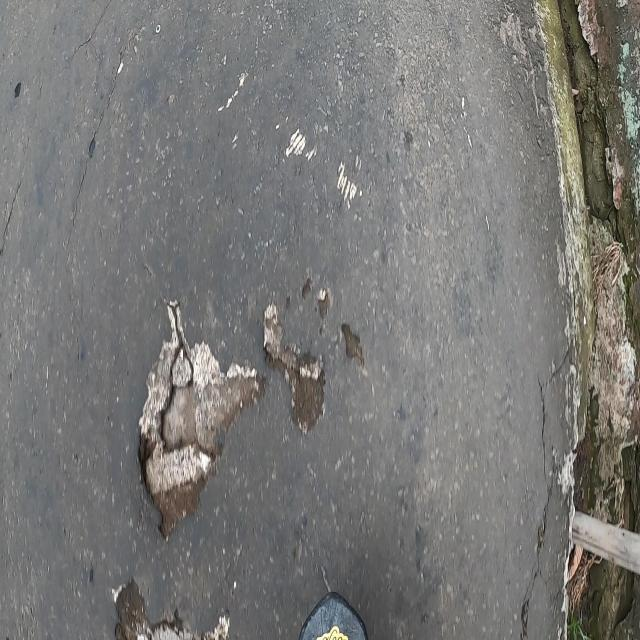Lubang: (140, 302, 265, 540), (115, 580, 195, 640), (281, 344, 325, 433)
